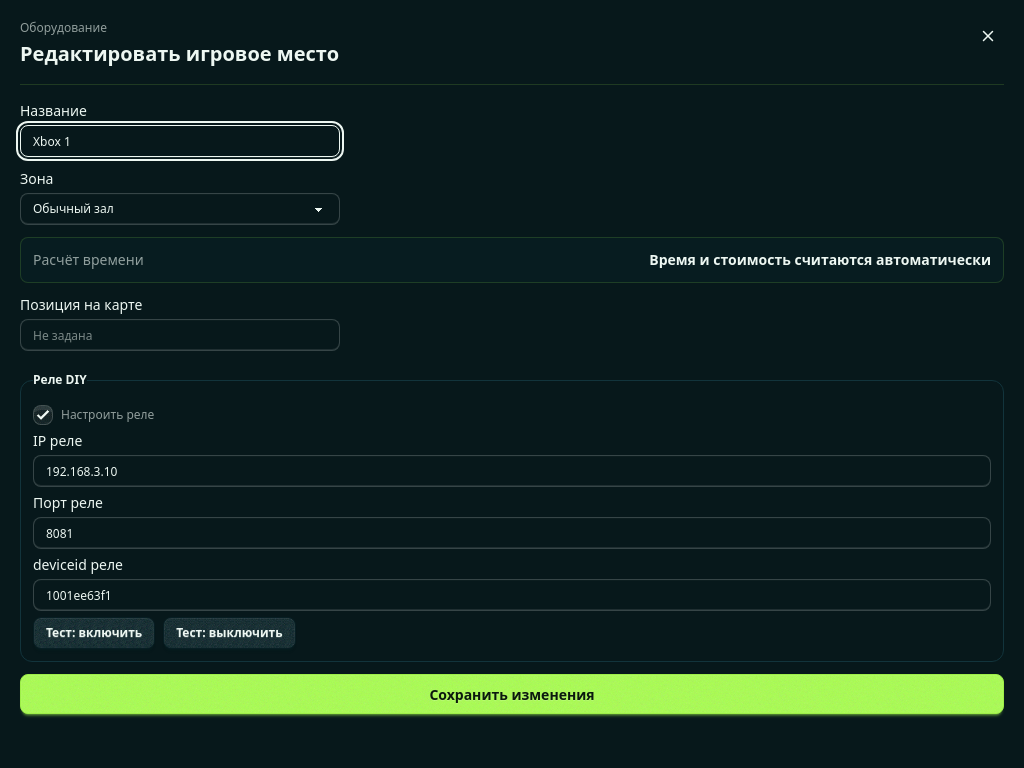
Test: Xbox › проверяет сохранённое реле и блокирует тест после изменения адреса
This screenshot has width=1024, height=768.
Expected: the field labelled "IP реле" holds "192.168.3.10", [33,455,991,487]
Click the button "Тест: включить" at {"x": 94, "y": 633}, box [33,617,155,649]
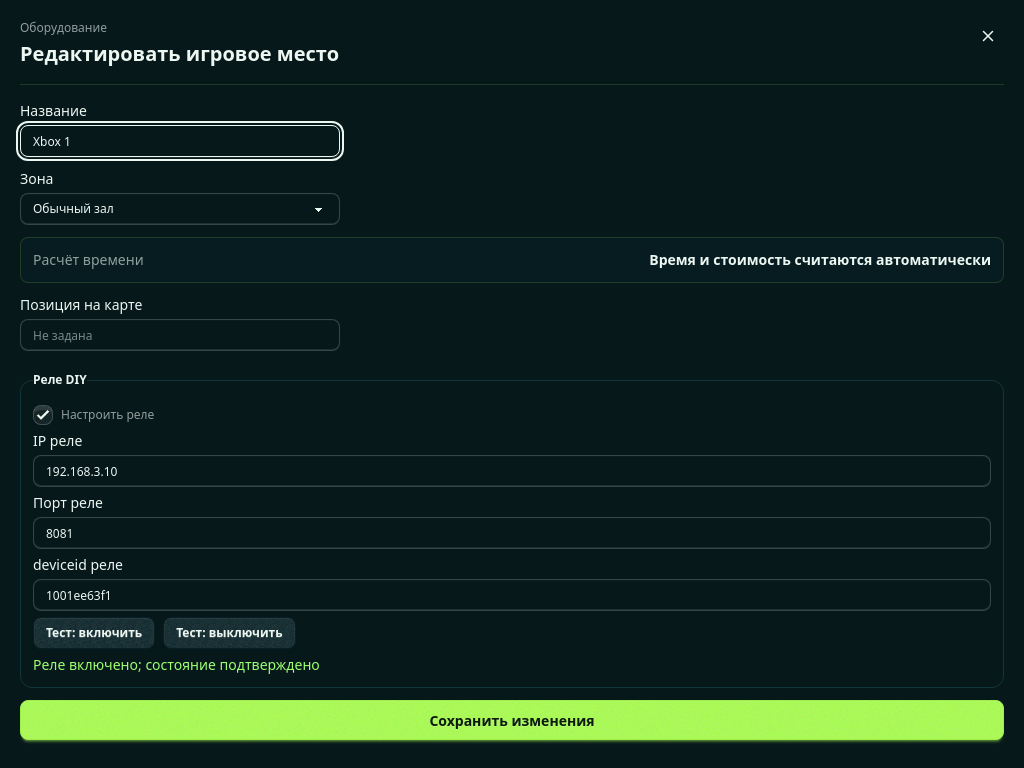
Expected: the text "Реле включено; состояние подтверждено" is shown, [33,655,320,674]
Click the button "Тест: выключить" at {"x": 229, "y": 633}, box [163,617,296,649]
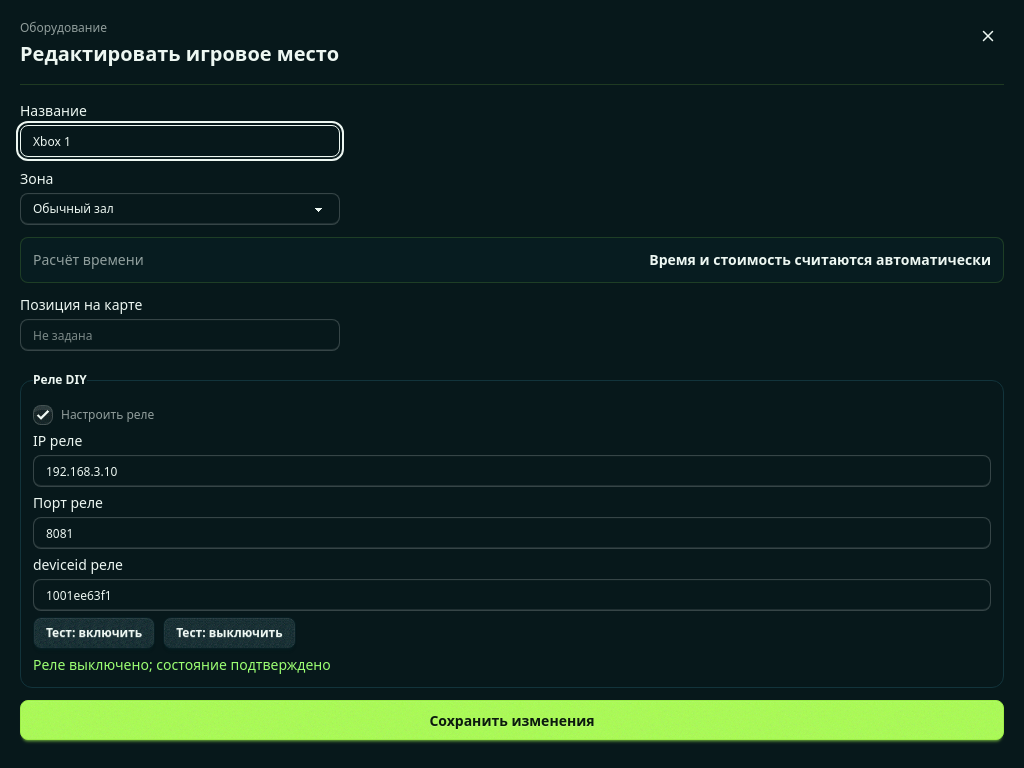
Expected: the text "Реле выключено; состояние подтверждено" is shown, [33,655,331,674]
Replace the text in the field labelled "IP реле" with "192.168.3.11" at {"x": 512, "y": 471}, box [33,455,991,487]
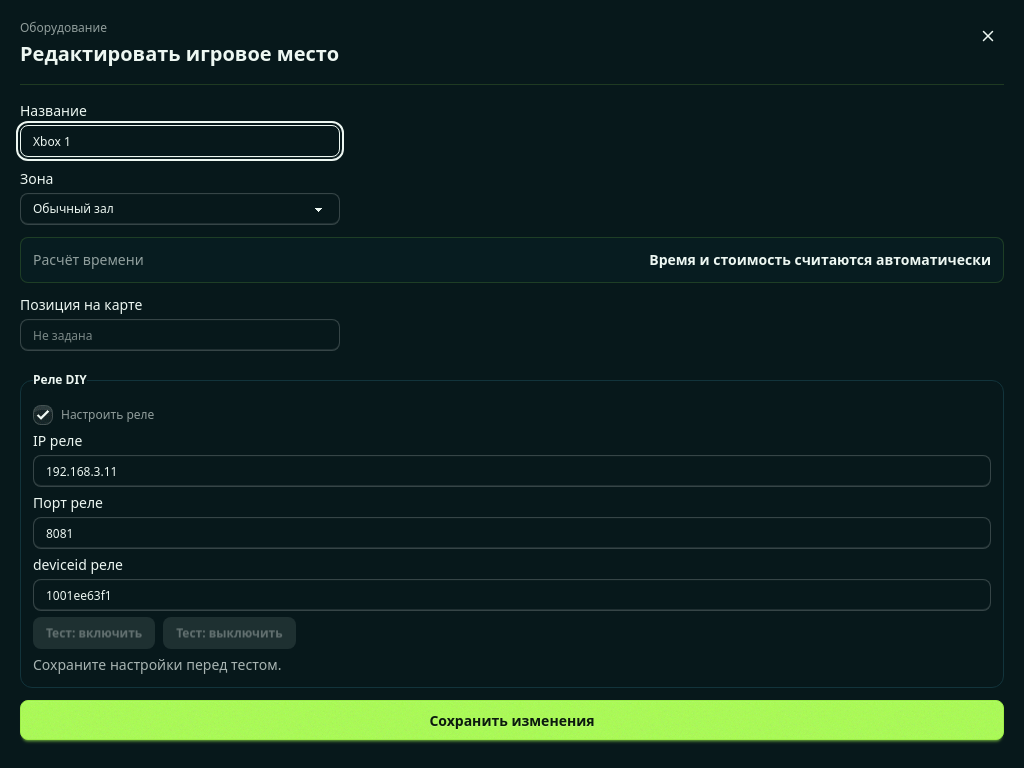
Expected: the button "Тест: включить" is disabled, [33,617,155,649]
Expected: the button "Тест: выключить" is disabled, [163,617,296,649]
